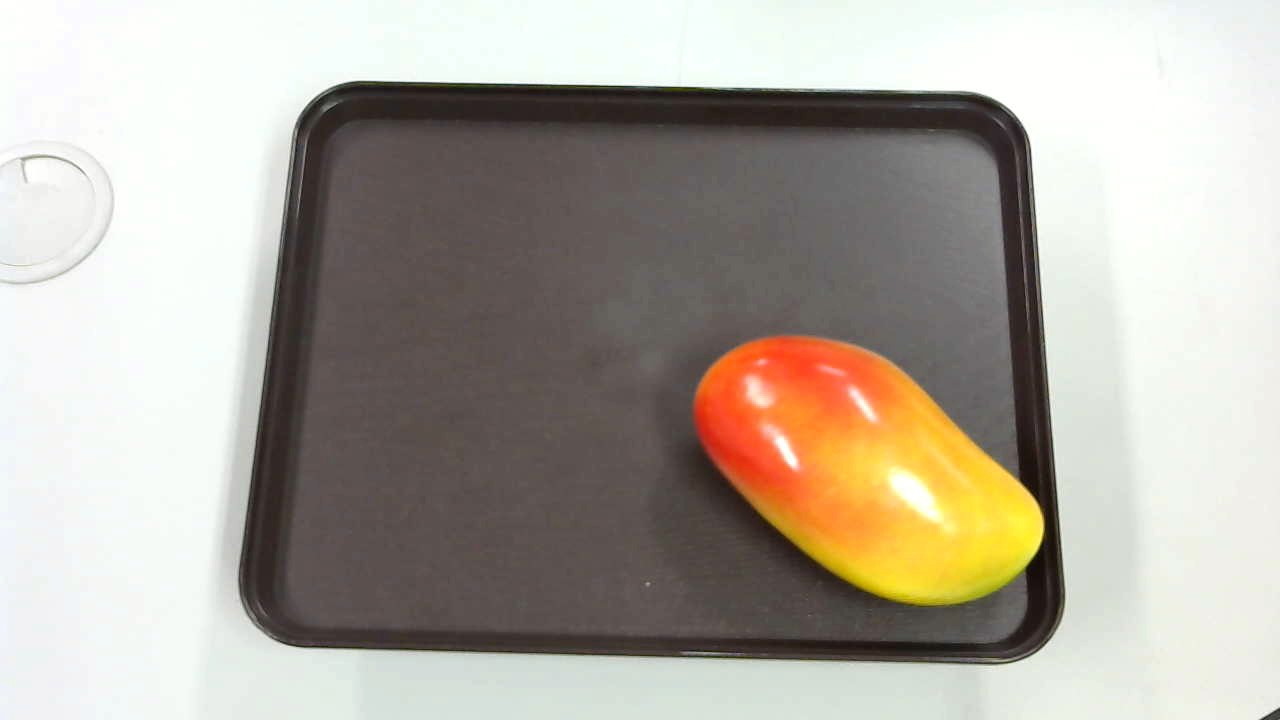red mango: (678, 325, 1057, 627)
